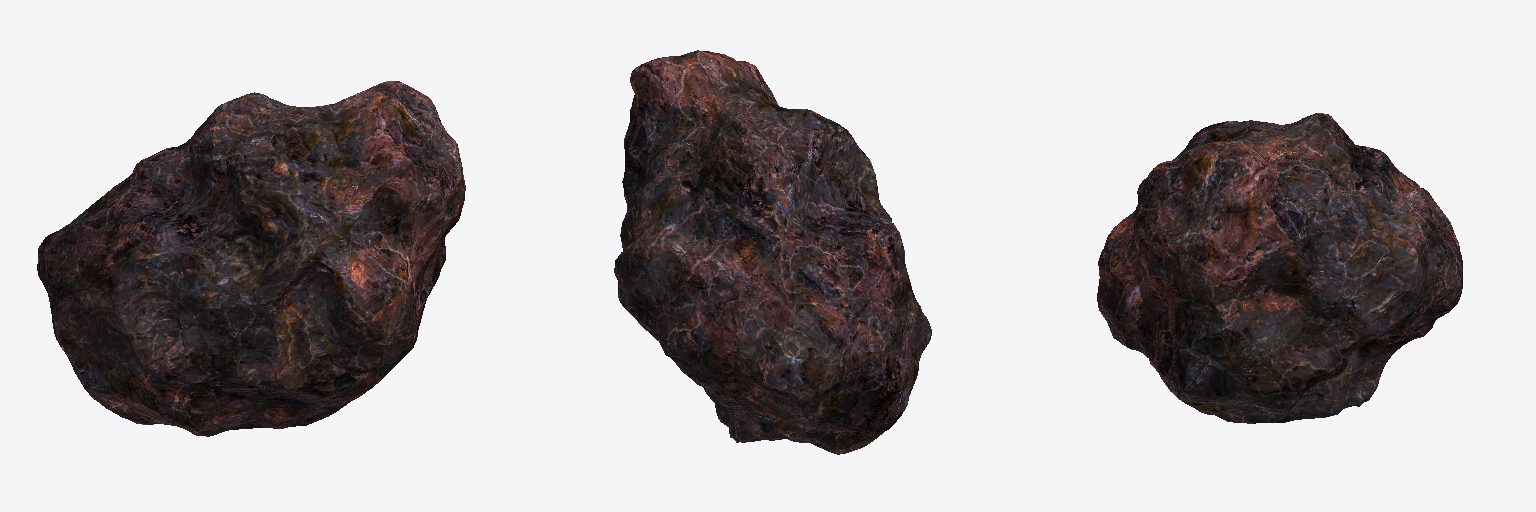
The picture shows the model from 3 angles: view 1: azimuth 30°, elevation 25°; view 2: azimuth 150°, elevation 25°; view 3: azimuth 270°, elevation 25°; orthographic projection.
Parts seen in each view (by area): view 1: asteroid2.002; view 2: asteroid2.002; view 3: asteroid2.002.
Boxes of the visible parts, x1,y1,x2,y2 form: asteroid2.002: [37, 81, 465, 436]; asteroid2.002: [614, 50, 931, 454]; asteroid2.002: [1097, 113, 1462, 423].
Bounding box in the file's own units: 1.09 × 0.986 × 1.03.
Materials: 1 (1 with a texture image).